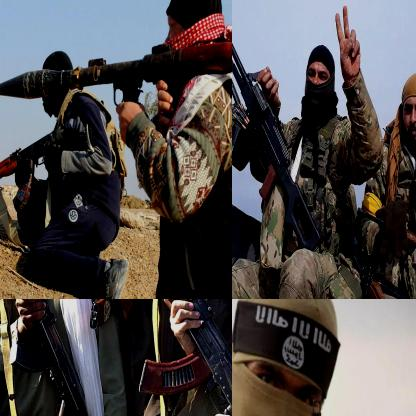rifle: (232, 0, 329, 250), (0, 12, 231, 114), (101, 299, 231, 415), (0, 299, 102, 415), (0, 116, 96, 218), (346, 233, 410, 298)
